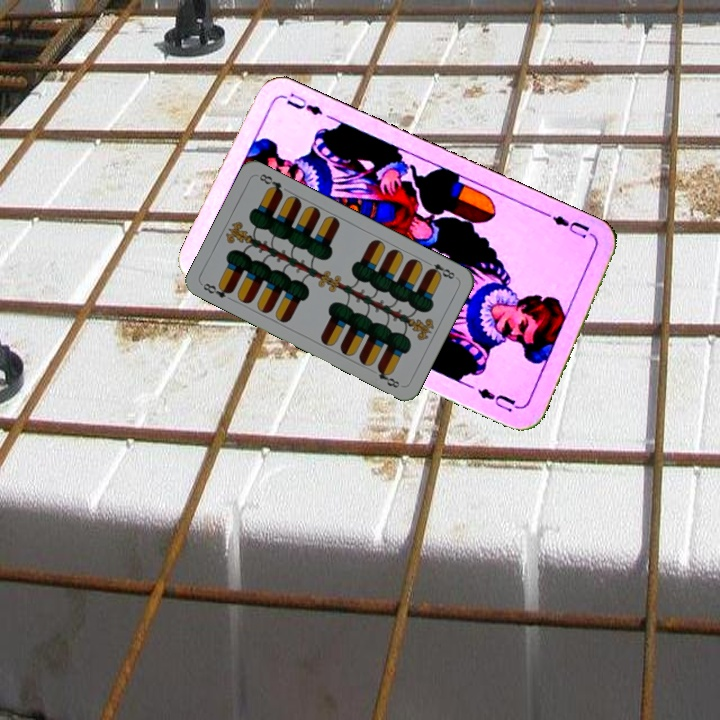E8: (422, 257, 459, 282), (199, 279, 236, 301)
EU: (548, 211, 592, 241)
